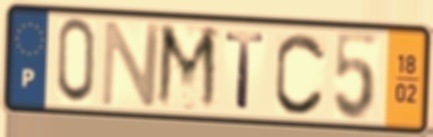0: (54, 15, 97, 108)
5: (331, 28, 383, 124)
C: (272, 29, 328, 119)
M: (153, 20, 221, 115)
N: (98, 18, 165, 109)
T: (223, 30, 268, 113)
